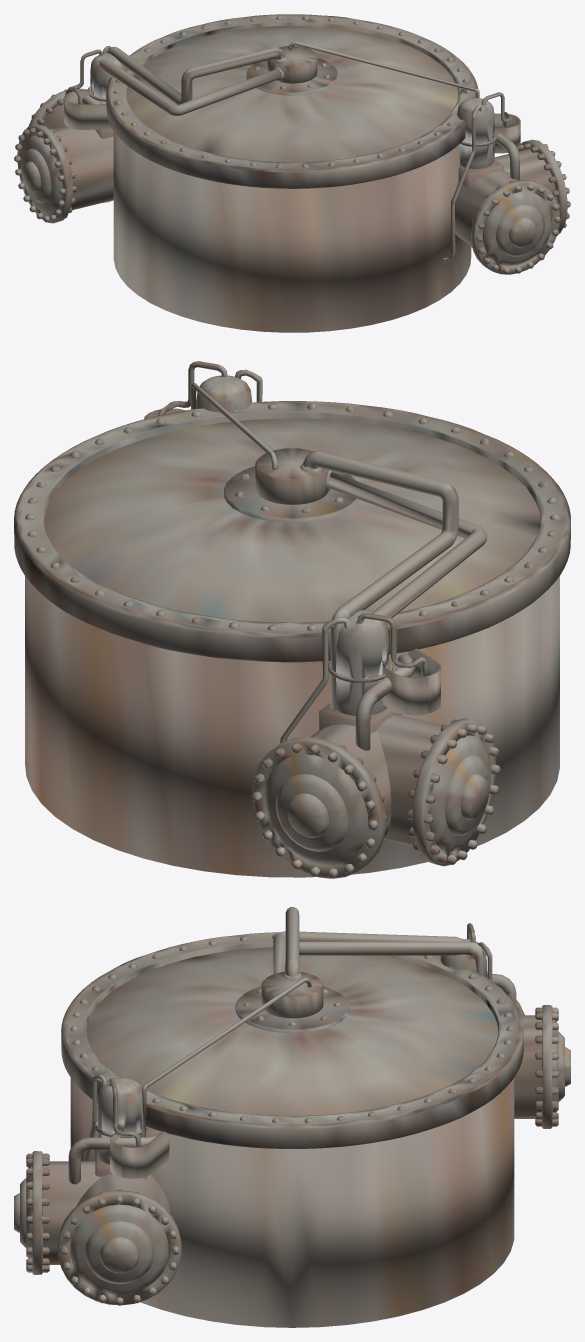
The model's file is storage-tank.glb.
The picture shows the model from 3 angles, top to bottom: view 1: azimuth 30°, elevation 25°; view 2: azimuth 150°, elevation 25°; view 3: azimuth 270°, elevation 25°; orthographic projection. The views are drawn at different scales.
Visible parts, largest first — view 1: modelo; view 2: modelo; view 3: modelo.
Part boxes in pixels (x1,y1,x2,y2): modelo: (14, 14, 570, 332); modelo: (14, 361, 570, 878); modelo: (14, 907, 570, 1327).
Bounding box in the file's own units: 6.45 × 3.38 × 6.45.
